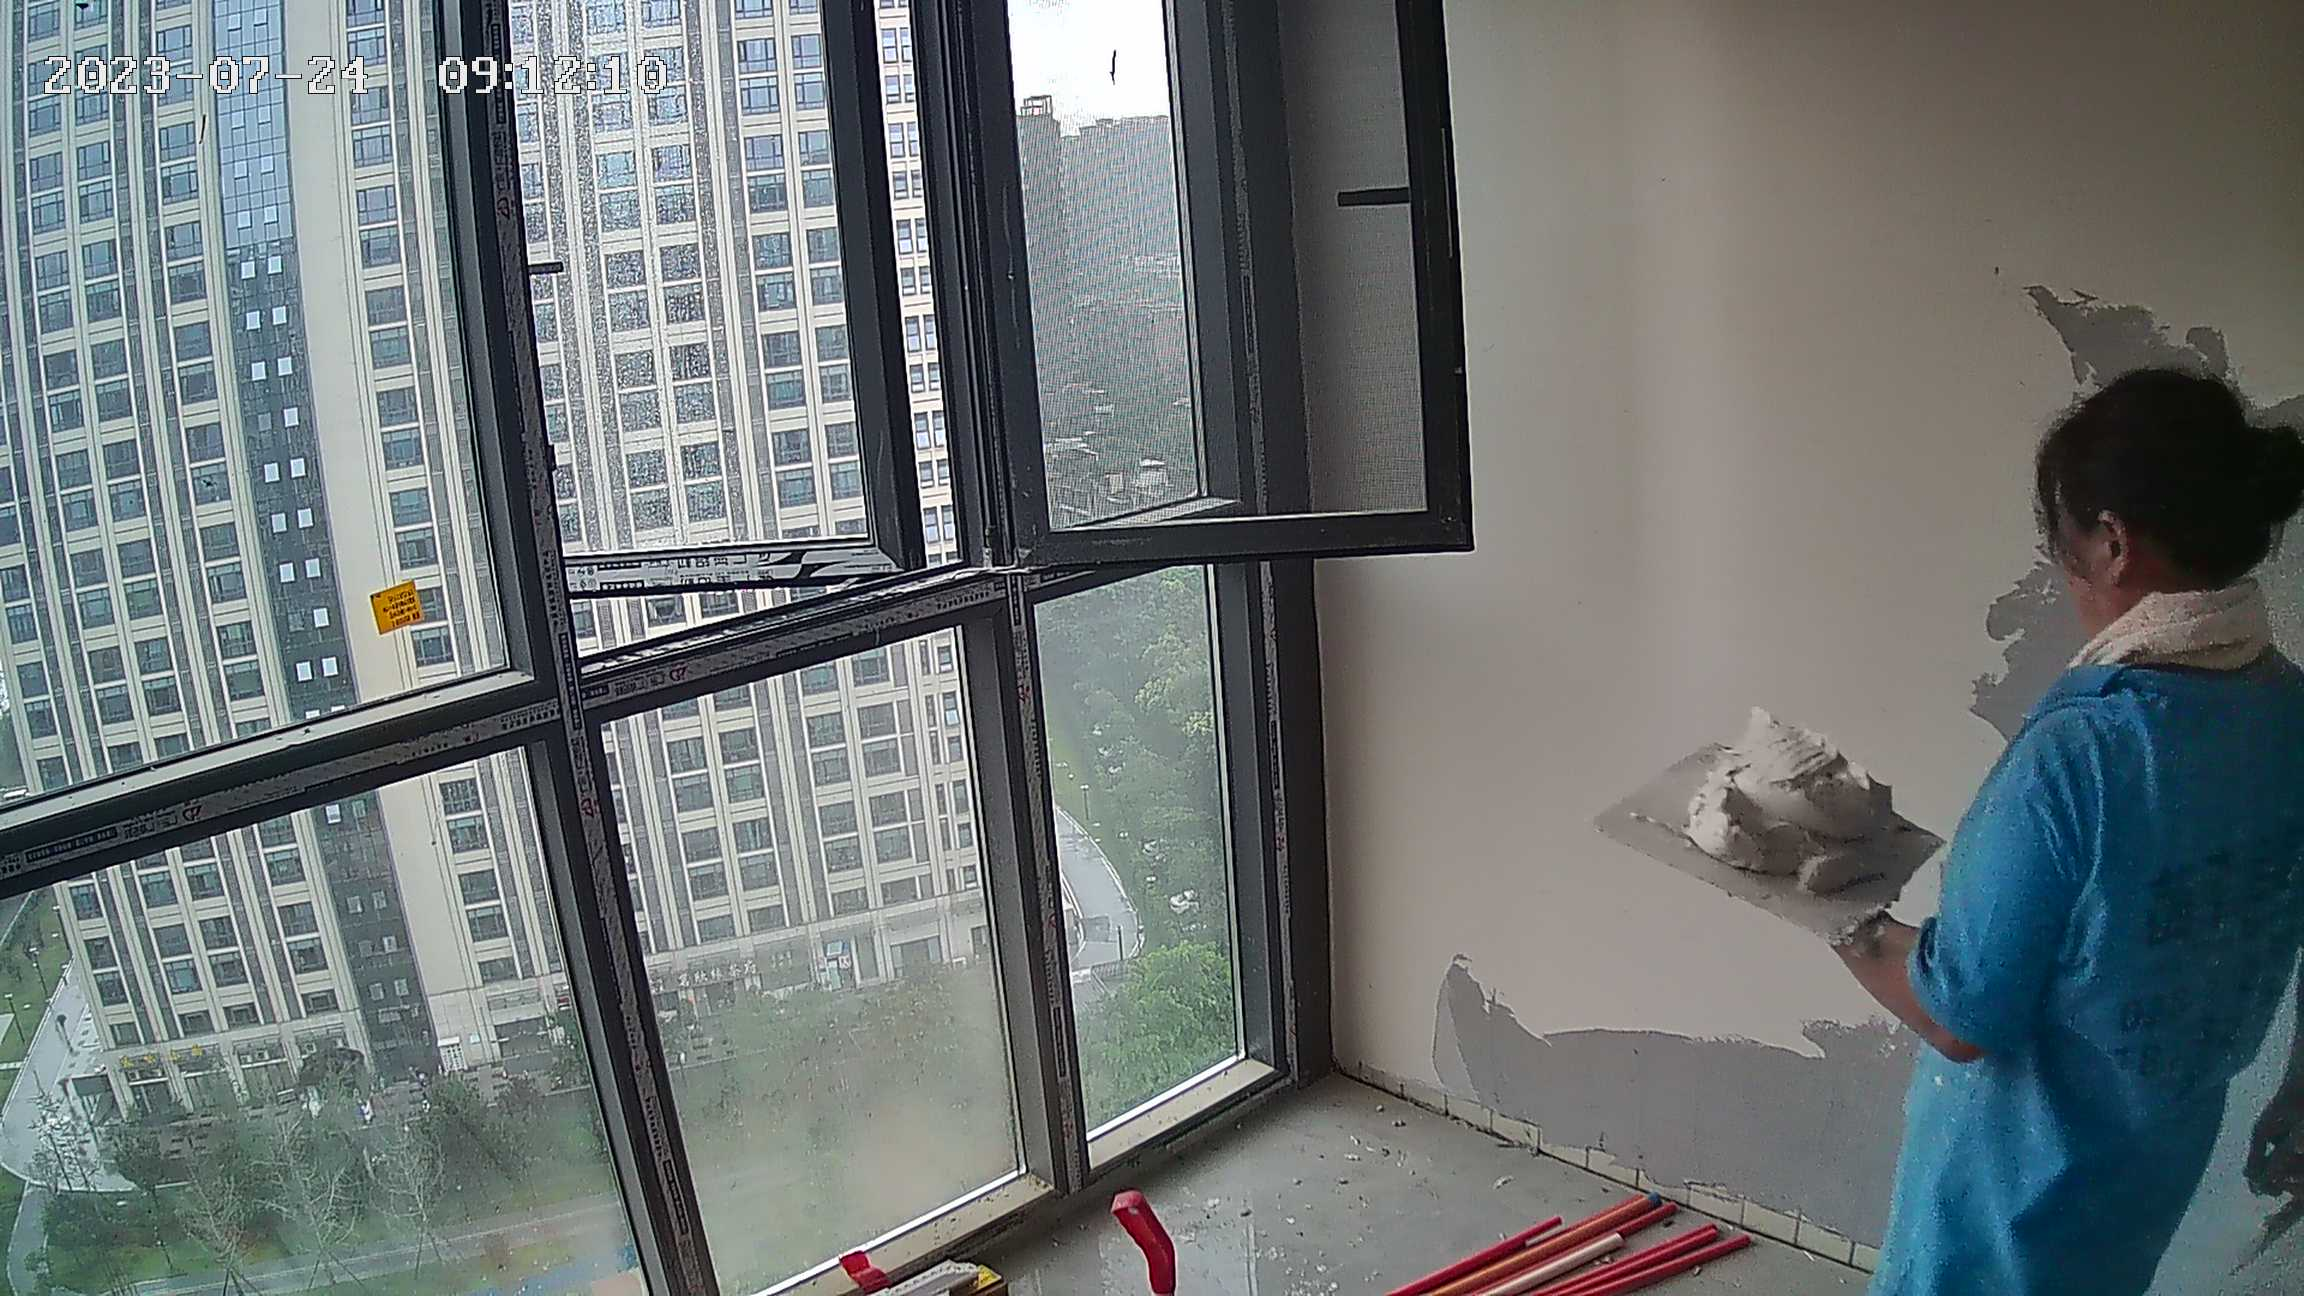people: (1859, 364, 2304, 1289)
window: (7, 1, 1344, 1283)
